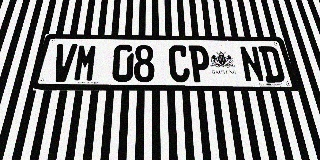0: (111, 44, 134, 82)
8: (133, 45, 154, 82)
C: (168, 45, 190, 82)
D: (258, 46, 286, 83)
M: (72, 44, 98, 82)
N: (239, 46, 265, 82)
P: (188, 45, 212, 82)
V: (50, 44, 78, 82)
